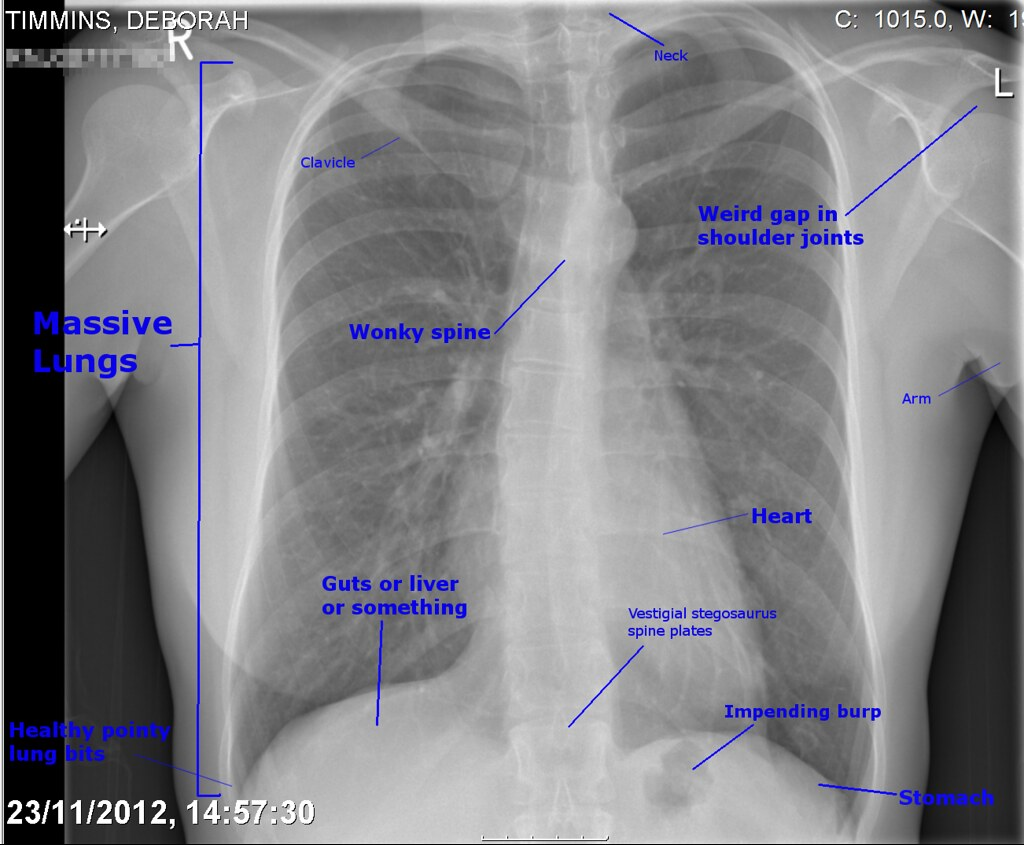telestration: (173, 54, 232, 797), (843, 100, 984, 218), (26, 307, 172, 376), (697, 197, 860, 248), (321, 571, 472, 619), (566, 638, 644, 728), (495, 253, 569, 335), (623, 602, 776, 637), (346, 315, 491, 347), (718, 698, 885, 722), (662, 505, 748, 537), (898, 782, 995, 810), (366, 617, 389, 728), (941, 355, 1000, 397), (601, 7, 667, 44), (692, 726, 746, 767), (811, 778, 902, 799), (752, 504, 813, 530), (298, 153, 354, 172), (364, 134, 399, 158), (896, 388, 934, 409), (652, 48, 689, 61)
